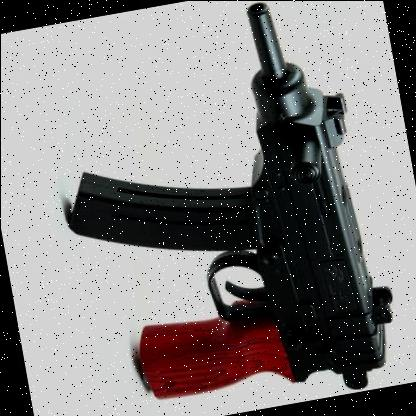rifle: (45, 0, 410, 416)
